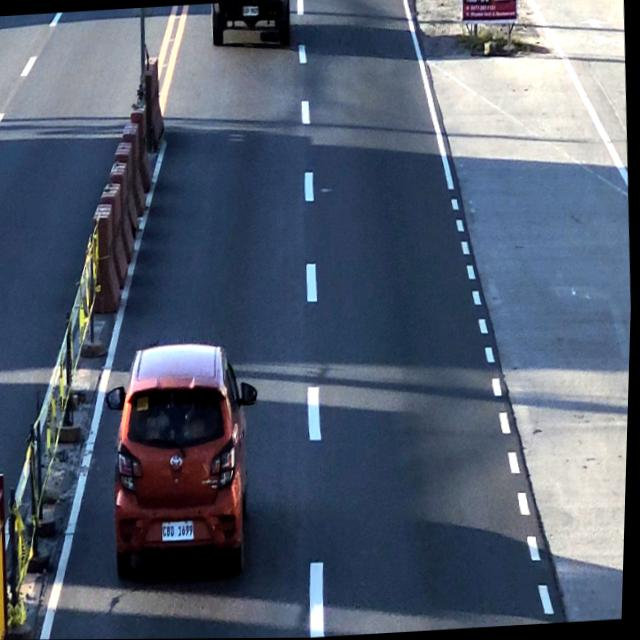Car: (108, 338, 263, 570), (206, 0, 296, 45)
License-Plate: (164, 519, 199, 540)
